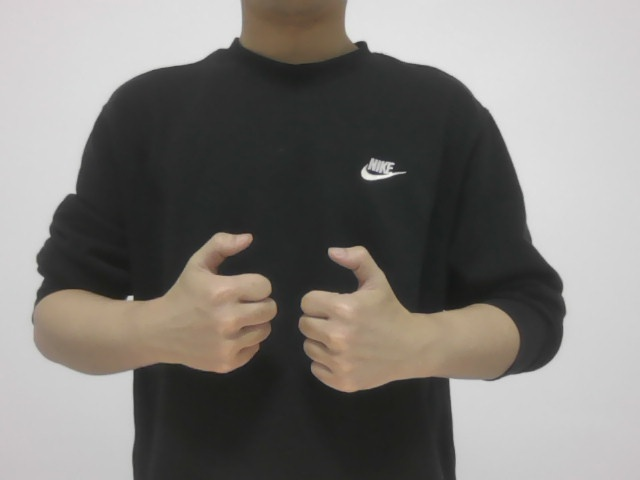marry/wife: (151, 221, 409, 408)
